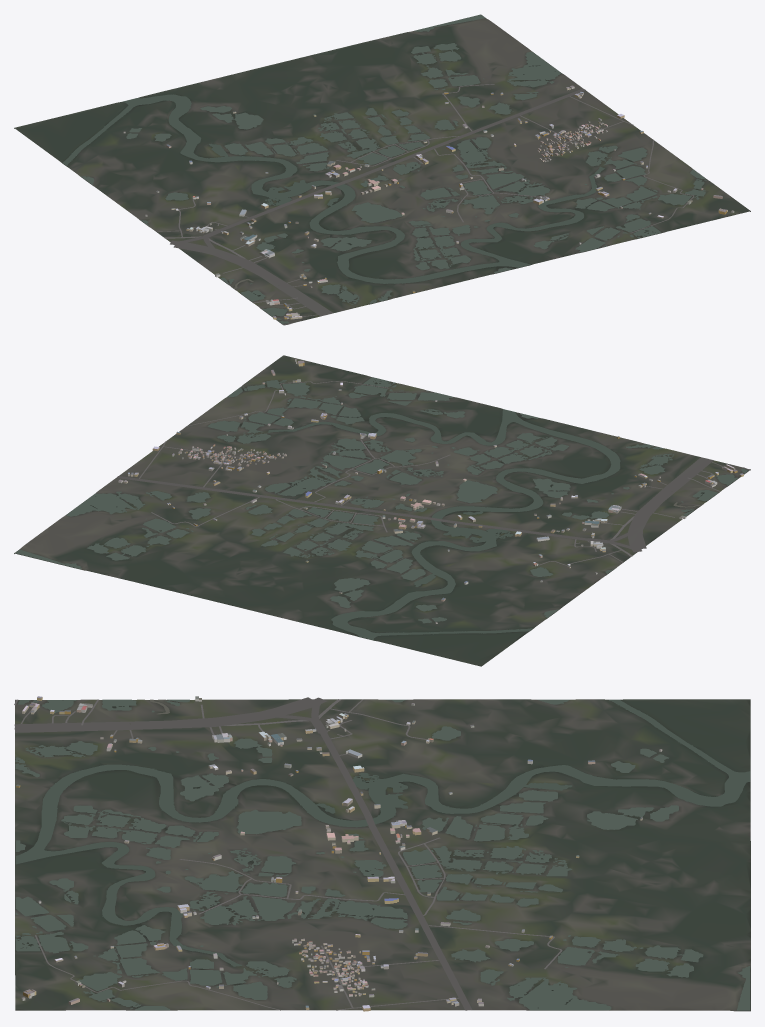
3 views of the same model, one above another, from view 1: azimuth 30°, elevation 25°; view 2: azimuth 150°, elevation 25°; view 3: azimuth 270°, elevation 25° (orthographic). The views are drawn at different scales.
Parts seen in each view (by area): view 1: ground, water, roads, buildings; view 2: ground, water, roads, buildings; view 3: ground, water, roads, buildings.
Boxes of the visible parts, x1=… form: ground: x1=14, y1=15, x2=750, y2=325; water: x1=63, y1=14, x2=706, y2=323; roads: x1=156, y1=84, x2=694, y2=324; buildings: x1=123, y1=85, x2=734, y2=319; ground: x1=14, y1=355, x2=750, y2=666; water: x1=15, y1=377, x2=748, y2=639; roads: x1=117, y1=381, x2=749, y2=565; buildings: x1=118, y1=359, x2=743, y2=623; ground: x1=15, y1=699, x2=750, y2=1011; water: x1=15, y1=699, x2=750, y2=1010; roads: x1=14, y1=697, x2=562, y2=1010; buildings: x1=16, y1=696, x2=662, y2=1011.
Size of the model in its own units: 1415 by 13.39 by 1403.
